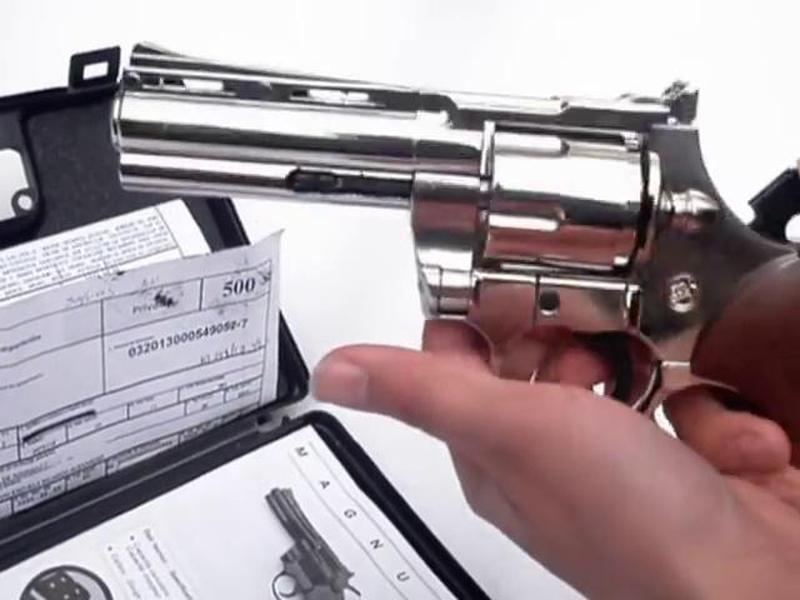Revolver: (85, 24, 800, 434)
